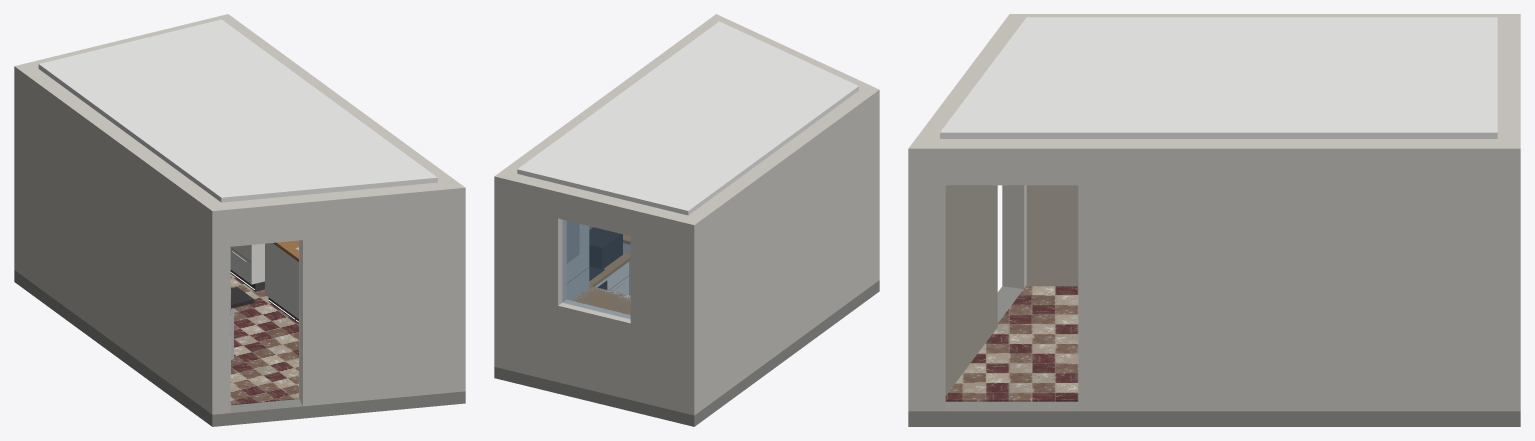
File: cuisine.glb
3 views of the same model, side by side, from view 1: azimuth 30°, elevation 25°; view 2: azimuth 150°, elevation 25°; view 3: azimuth 270°, elevation 25° (orthographic). The views are drawn at different scales.
Parts seen in each view (by area): view 1: Mur D, Mur A, Plafond, Sol, Dalle, Mur B, Lave-vaisselle, Tiroirs droite, Mur C, Tiroirs, Meuble sous évier; view 2: Mur D, Mur C, Plafond, Vitre mur C, Dalle, Mur B, Frigo.002, Micro-ondes.002, Mur A, Plan de travail C 650, Haut C 1700, Tiroirs droite (+1 smaller); view 3: Mur B, Plafond, Dalle, Sol, Deco mur A zone A 1, Deco mur D zone DL 1, Mur A, Mur C, Mur D.
Part boxes in pixels (x1,y1,x2,y2): Mur D: [14, 66, 221, 414]; Mur A: [212, 182, 465, 414]; Plafond: [38, 19, 437, 202]; Sol: [230, 274, 299, 405]; Dalle: [14, 270, 465, 426]; Mur B: [224, 14, 464, 187]; Lave-vaisselle: [265, 243, 291, 313]; Tiroirs droite: [230, 243, 264, 284]; Mur C: [14, 14, 227, 68]; Tiroirs: [230, 245, 251, 283]; Meuble sous évier: [291, 257, 298, 318]; Mur D: [688, 89, 879, 415]; Mur C: [494, 174, 694, 415]; Plafond: [517, 21, 858, 215]; Vitre mur C: [562, 220, 630, 318]; Dalle: [494, 280, 879, 426]; Mur B: [495, 14, 718, 176]; Frigo.002: [566, 224, 589, 300]; Micro-ondes.002: [589, 227, 622, 269]; Mur A: [716, 14, 878, 90]; Plan de travail C 650: [572, 286, 630, 314]; Haut C 1700: [566, 221, 579, 263]; Tiroirs droite: [607, 262, 628, 294]; Mur B: [908, 139, 1520, 411]; Plafond: [940, 17, 1497, 138]; Dalle: [908, 286, 1520, 426]; Sol: [945, 285, 1078, 401]; Deco mur A zone A 1: [945, 185, 997, 395]; Deco mur D zone DL 1: [1026, 185, 1078, 286]; Mur A: [908, 14, 1026, 288]; Mur C: [1497, 14, 1520, 148]; Mur D: [1010, 14, 1519, 23].
Size of the model in its own units: 2.76 by 2.72 by 5.3.
302 materials, 10 textured.
